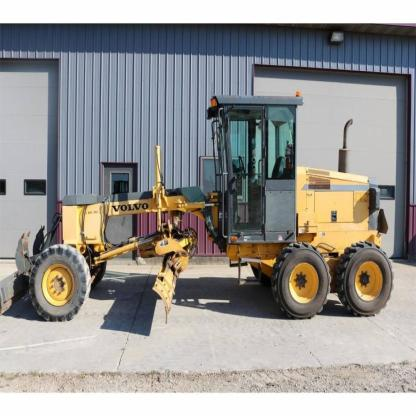bull_dozer/loader/grader: (19, 91, 388, 326)
